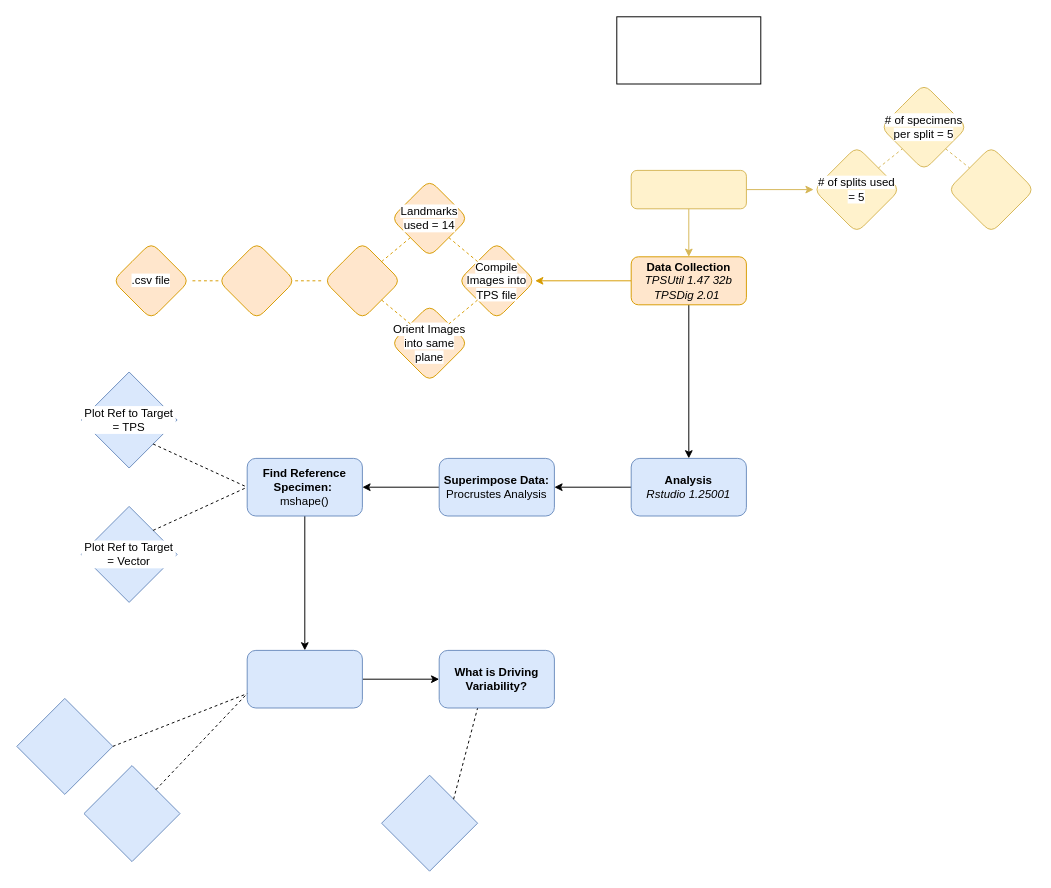
Some shapes in this 1051 by 888 pixel diagram are drawn without their labels. Each missing label, with the centre of its shape:
# of images taken per specimen = 3: the point at 990,189
Current Morphological Variation within/outside past range: the point at 688,50
Estimate Missing Landmarks: the point at 362,280
PCA Analysis: the point at 429,822
Set Missing Landmarks to NA/NA: the point at 256,280
Specimen Imaging DinoXcope 2.02: the point at 688,189
